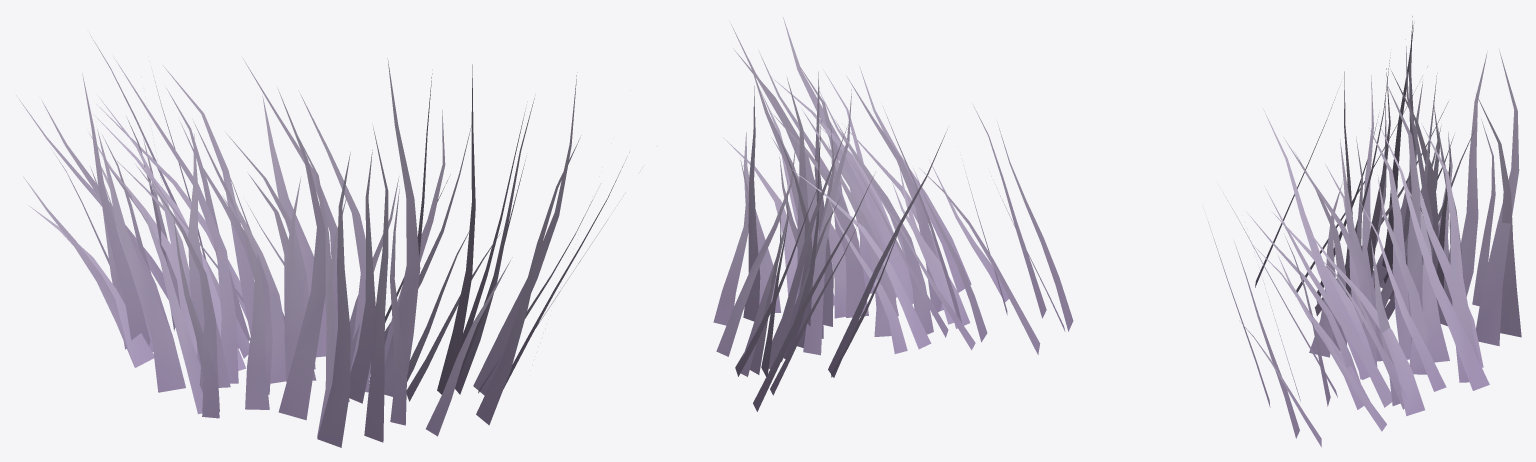
File: mesh-plant-020-silverspray-tuft_LOD1.glb
3 views of the same model, side by side, from view 1: azimuth 30°, elevation 25°; view 2: azimuth 150°, elevation 25°; view 3: azimuth 270°, elevation 25° (orthographic). The views are drawn at different scales.
Visible parts, largest first — view 1: geometry_0; view 2: geometry_0; view 3: geometry_0.
Boxes of the visible parts, bbox=[...] form: geometry_0: bbox=[16, 35, 629, 447]; geometry_0: bbox=[713, 17, 1073, 411]; geometry_0: bbox=[1208, 16, 1521, 447].
Bounding box in the file's own units: 1.43 × 0.7786 × 1.11.
